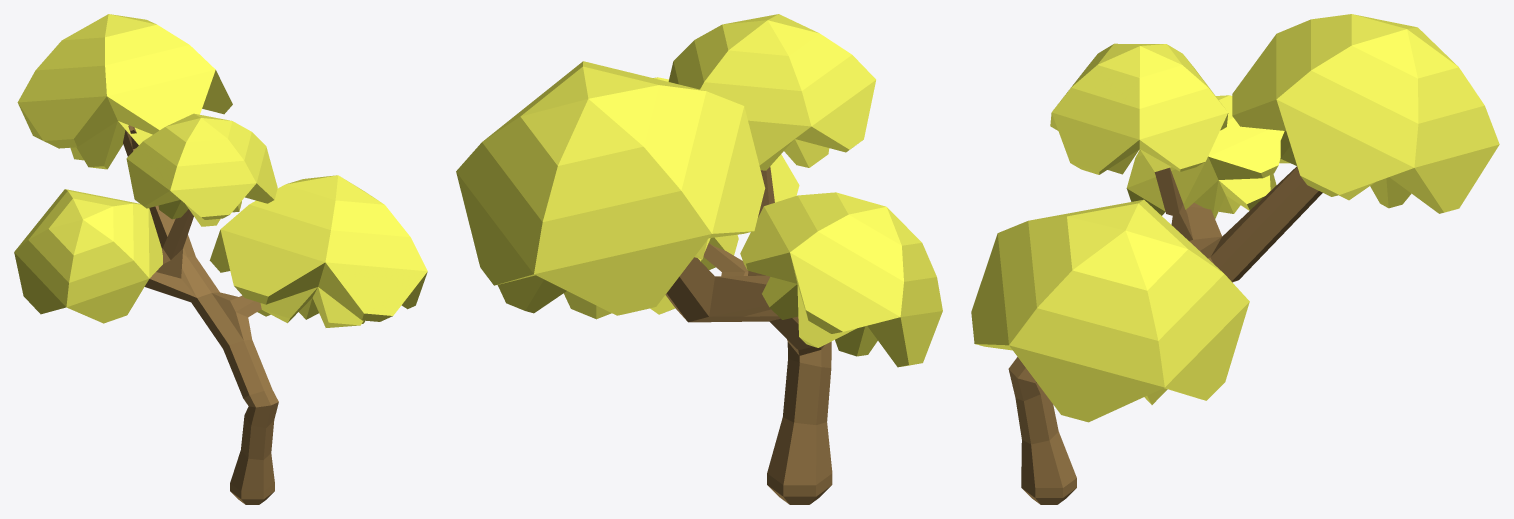
File: low_poly_tree(1).glb
The picture shows the model from 3 angles, left to right: view 1: azimuth 30°, elevation 25°; view 2: azimuth 150°, elevation 25°; view 3: azimuth 270°, elevation 25°; orthographic projection. The views are drawn at different scales.
Parts seen in each view (by area): view 1: Leaf.003_4, Leaf_1, Leaf.001_2, Leaf.002_3, Wood_0; view 2: Leaf_1, Leaf.001_2, Leaf.002_3, Wood_0, Leaf.003_4; view 3: Leaf.003_4, Leaf_1, Leaf.002_3, Wood_0, Leaf.001_2.
Part boxes in pixels (x1,y1,x2,y2): Leaf.003_4: [209, 175, 427, 327]; Leaf_1: [17, 14, 232, 169]; Leaf.001_2: [14, 189, 162, 323]; Leaf.002_3: [126, 113, 277, 226]; Wood_0: [123, 125, 278, 504]; Leaf_1: [456, 61, 765, 315]; Leaf.001_2: [740, 192, 942, 367]; Leaf.002_3: [668, 14, 875, 170]; Wood_0: [665, 166, 832, 504]; Leaf.003_4: [497, 77, 799, 319]; Leaf.003_4: [971, 199, 1249, 422]; Leaf_1: [1232, 14, 1499, 213]; Leaf.002_3: [1050, 43, 1228, 174]; Wood_0: [1008, 166, 1322, 504]; Leaf.001_2: [1126, 95, 1289, 218].
Bounding box in the file's own units: 12.88 × 13.99 × 14.25.
